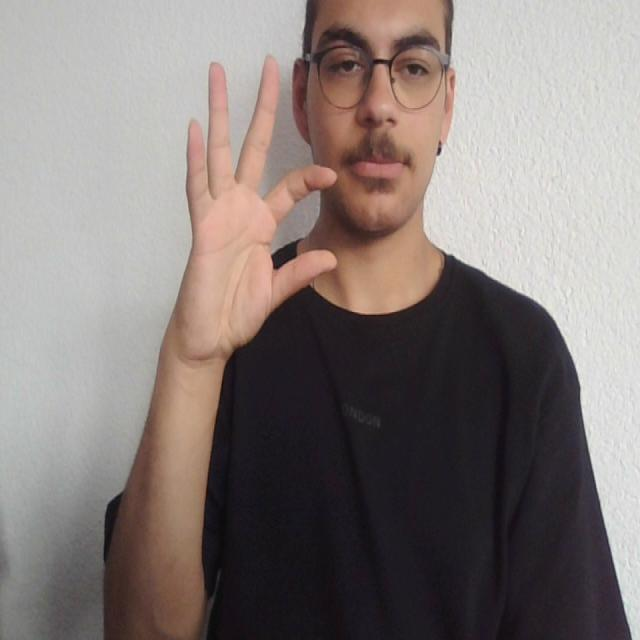Tuvalet: (168, 51, 346, 342)
